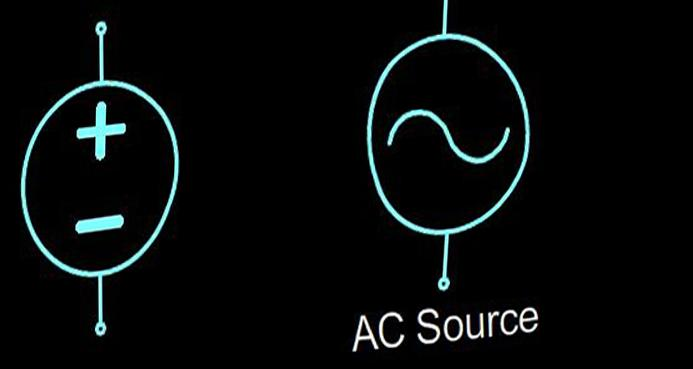Battery: (0, 63, 197, 289)
